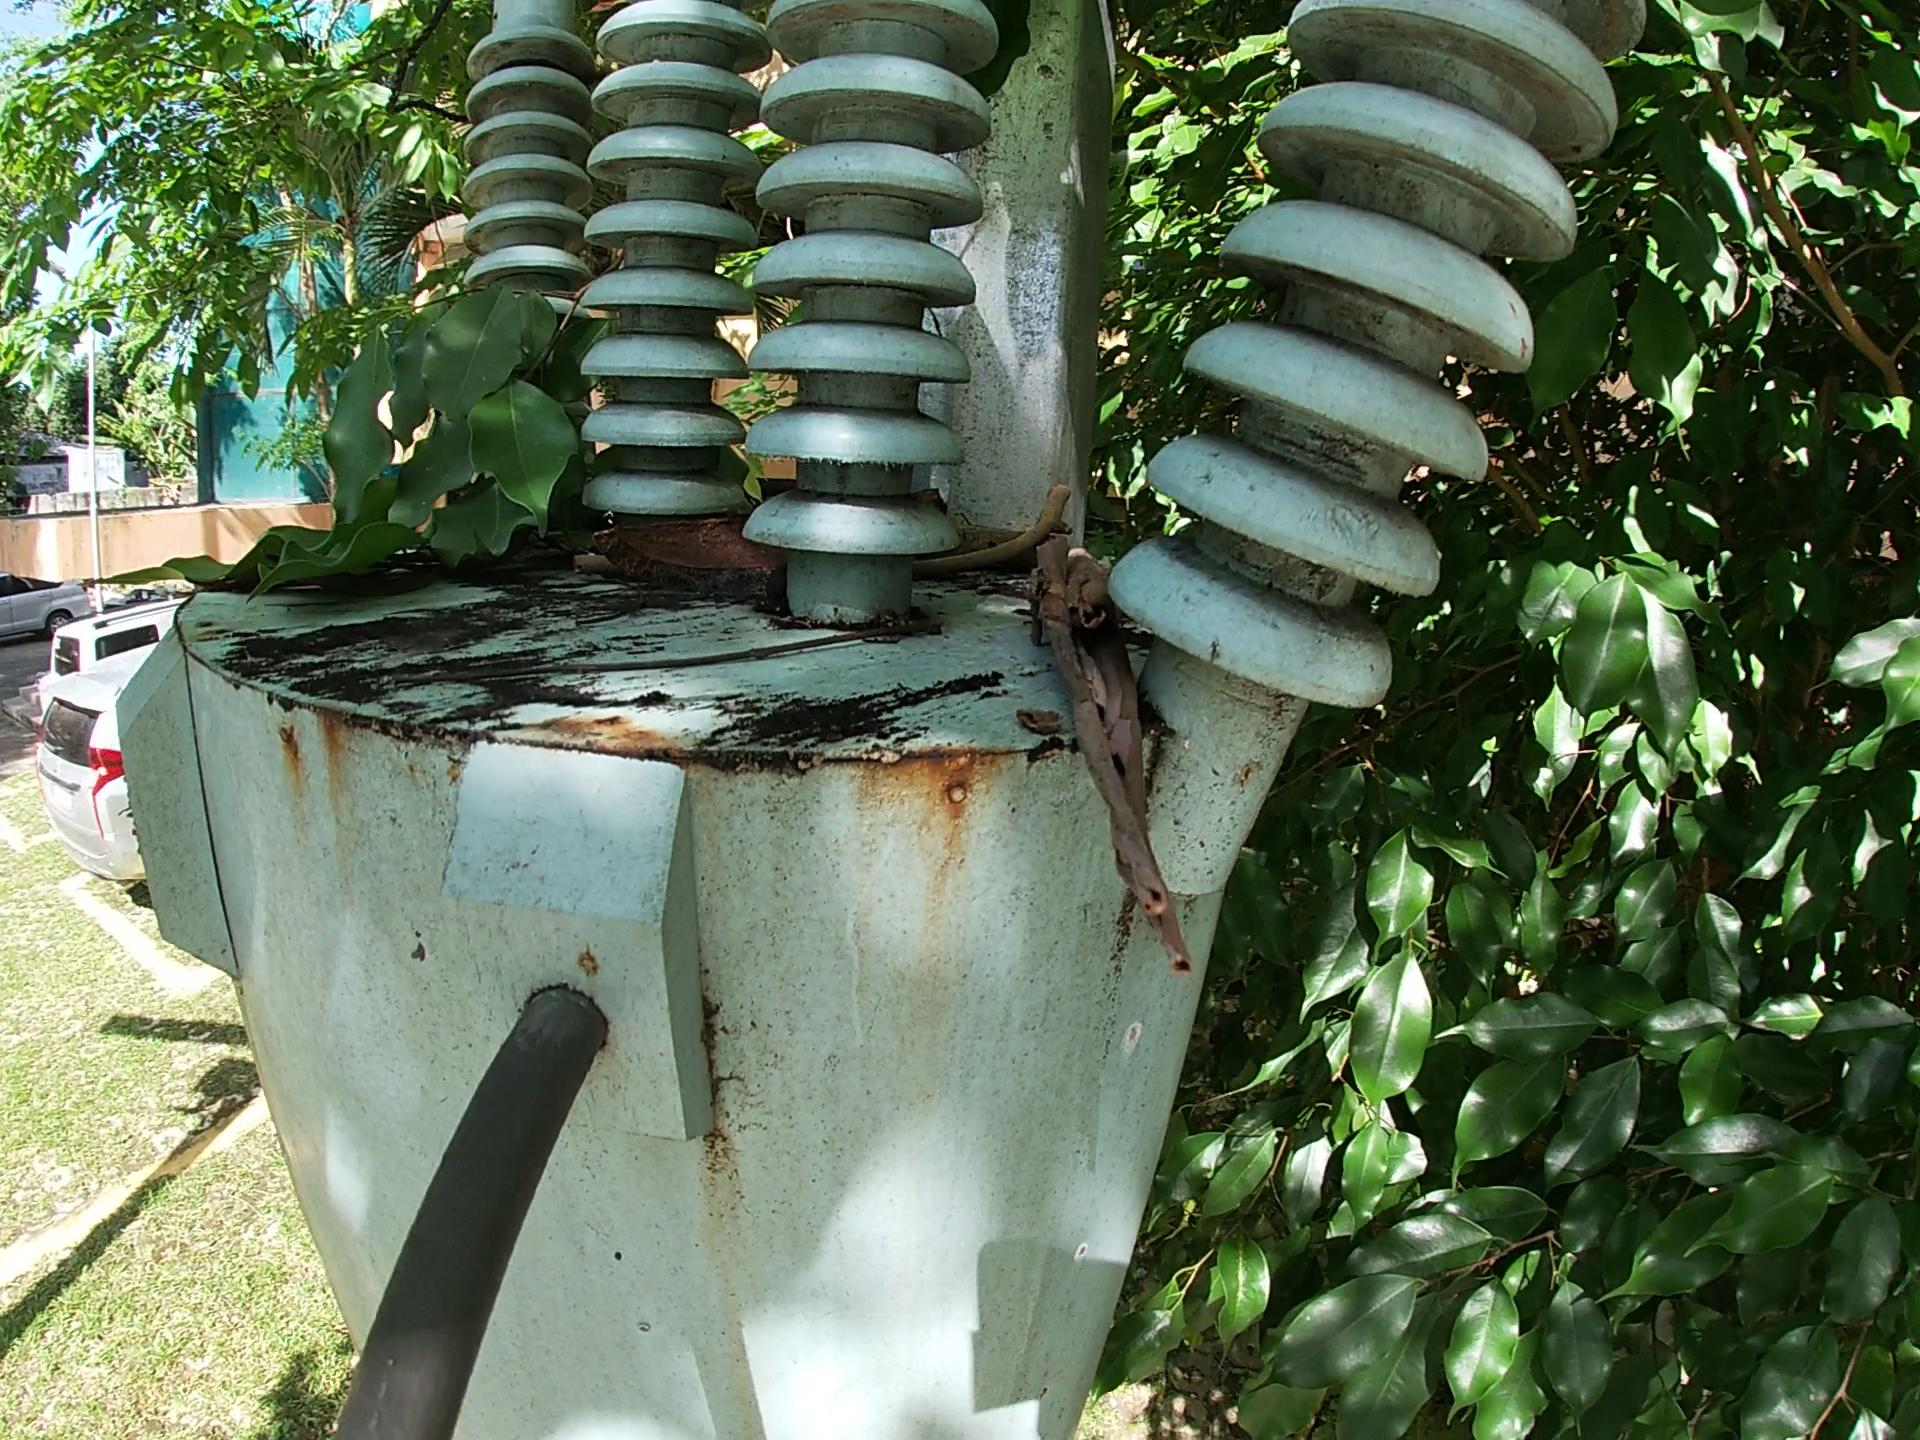branch with leaves: (56, 280, 602, 629)
mahogany fruit: (597, 507, 780, 588)
tree branch: (1019, 535, 1194, 988), (382, 614, 937, 691), (913, 492, 1070, 591), (927, 519, 1014, 546), (567, 545, 605, 569)
